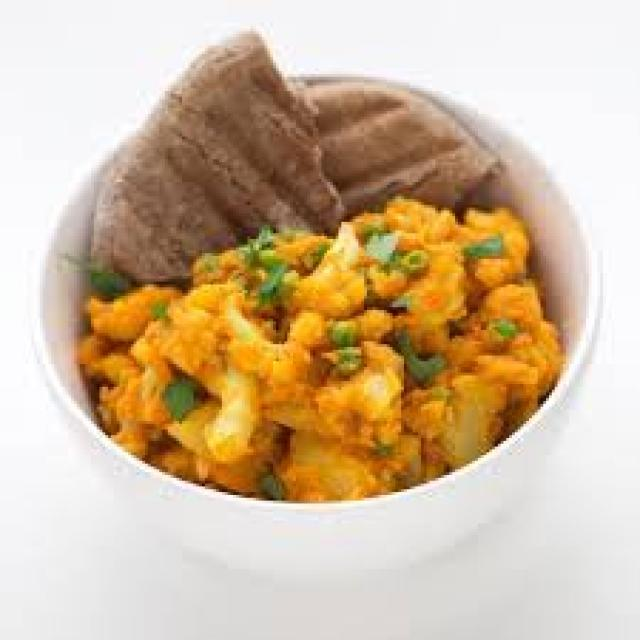aloo_gobi: (84, 234, 610, 480)
